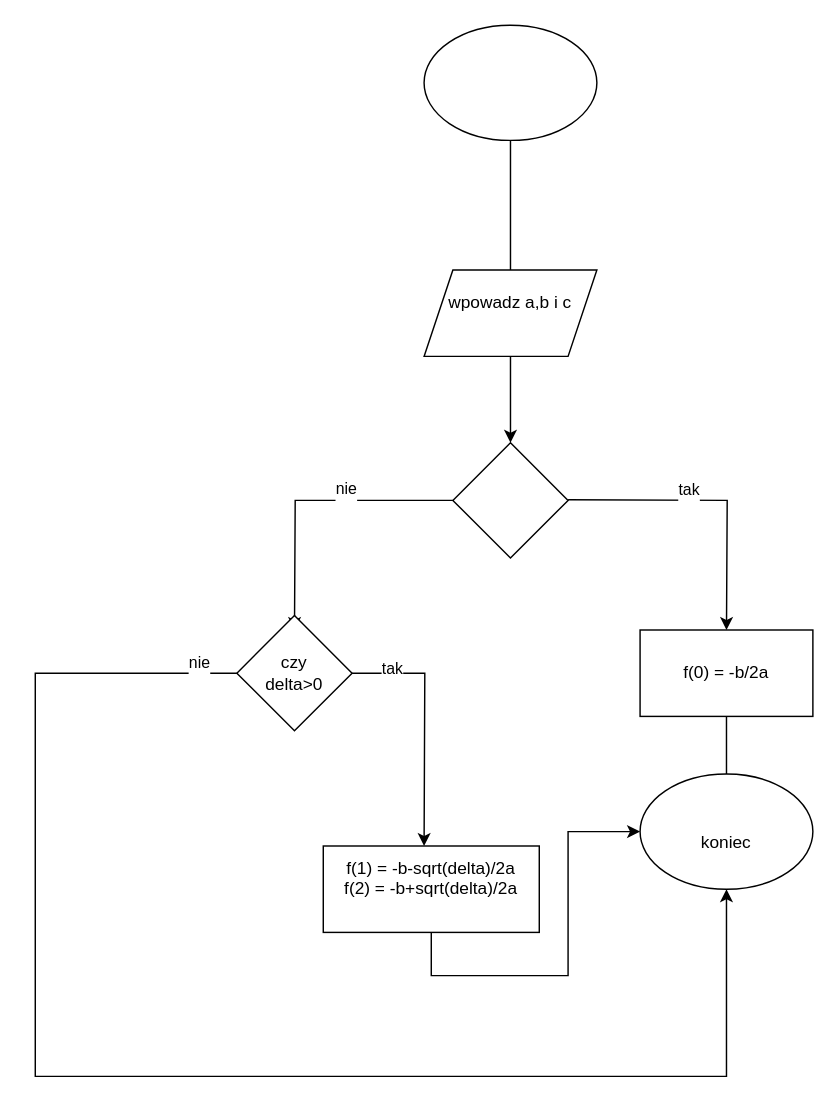
Image size: 838x1113. Some labels were removed from this diagram. The shapes that lost their labels are listed below. From the top down, each one's centre as x and y in pixels, then its label:
the point at 510,82: Start
the point at 509,499: czy delta = 0
